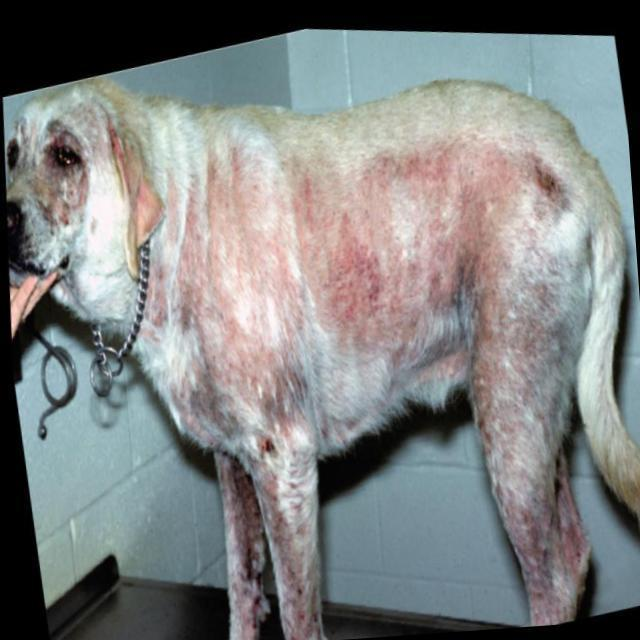mange: (178, 153, 524, 432), (480, 287, 588, 604)
